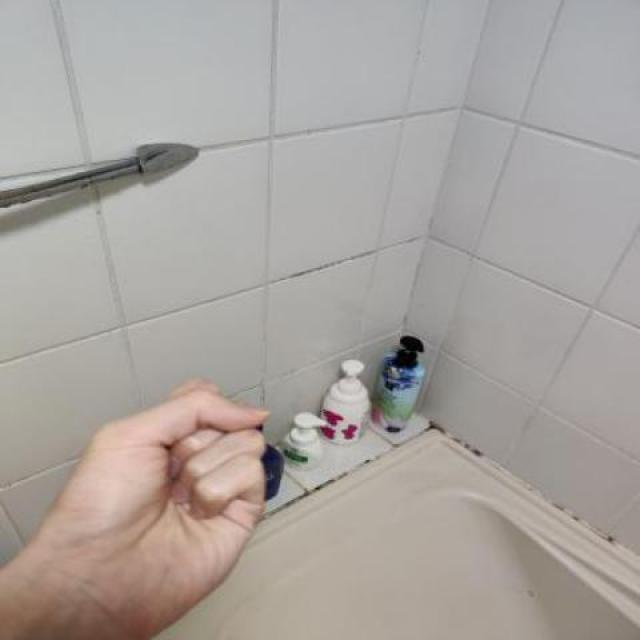Closed Hand: (0, 362, 276, 640)
